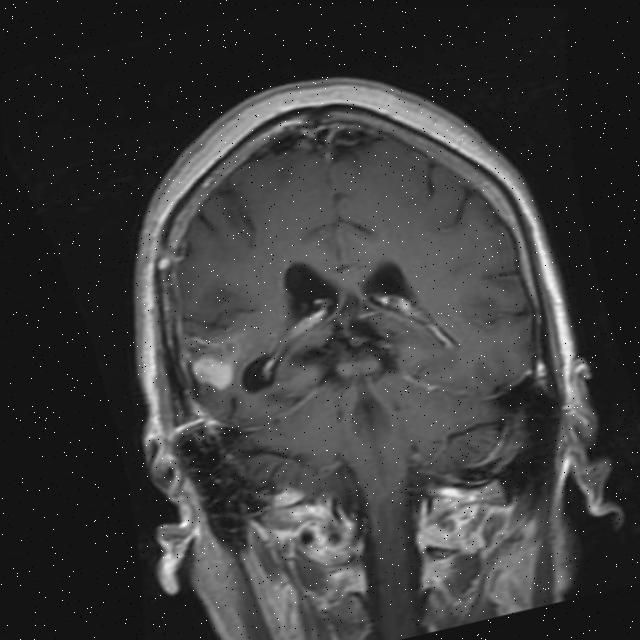Glioma: (187, 348, 238, 395)
